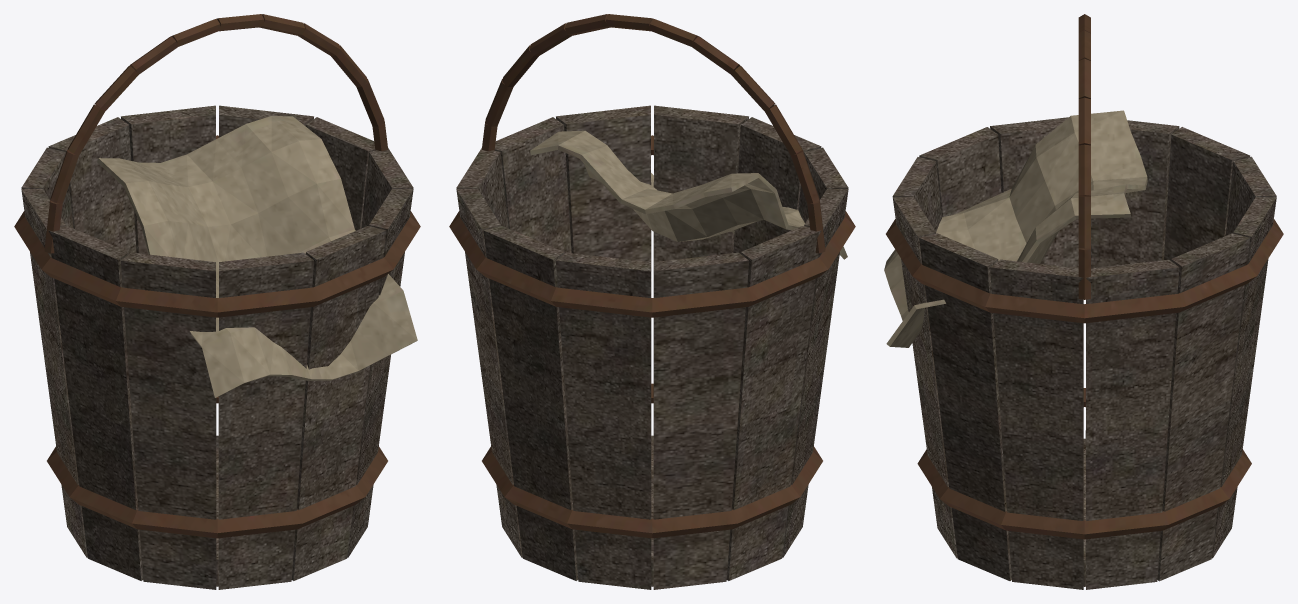
File: water-bucket.glb
3 views of the same model, side by side, from view 1: azimuth 30°, elevation 25°; view 2: azimuth 150°, elevation 25°; view 3: azimuth 270°, elevation 25° (orthographic). The views are drawn at different scales.
Parts seen in each view (by area): view 1: water-bucket; view 2: water-bucket; view 3: water-bucket.
Boxes of the visible parts, x1,y1,x2,y2 form: water-bucket: (14, 14, 420, 589); water-bucket: (449, 14, 855, 589); water-bucket: (884, 14, 1283, 589).
Bounding box in the file's own units: 0.338 × 0.4659 × 0.3393.
1 material, 1 textured.
